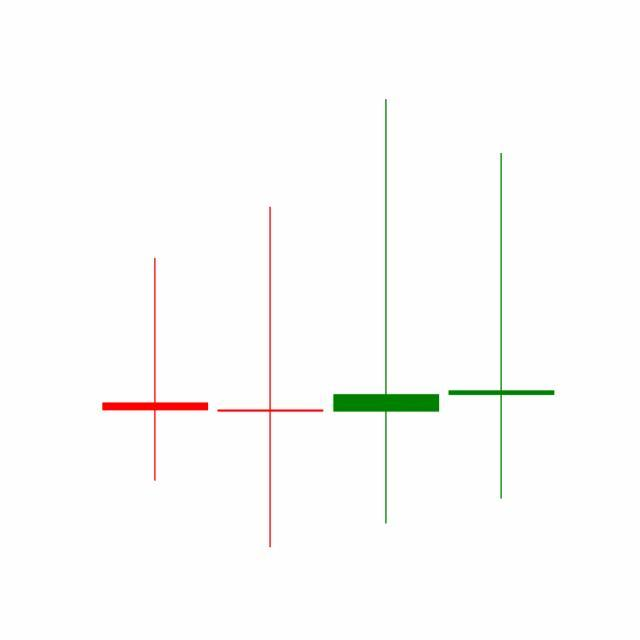Spinning Top: (444, 150, 560, 504)
